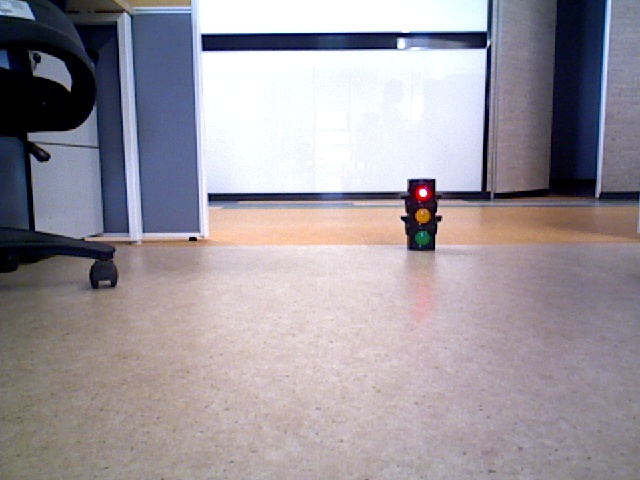red: (406, 178, 436, 246)
